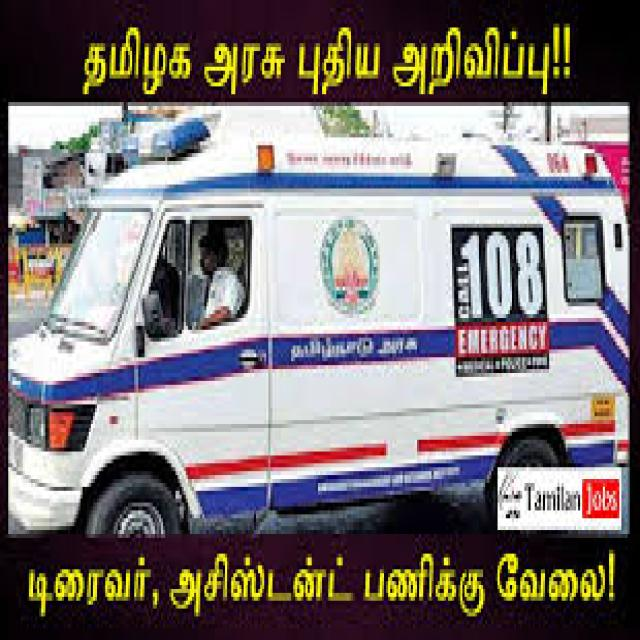ambulance: (6, 114, 640, 530)
